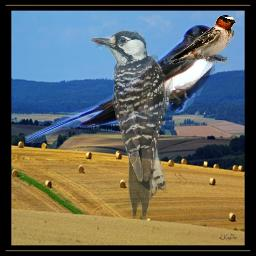Swallow: (23, 24, 225, 143), (169, 14, 236, 64)
Woodpecker: (89, 30, 185, 224)
